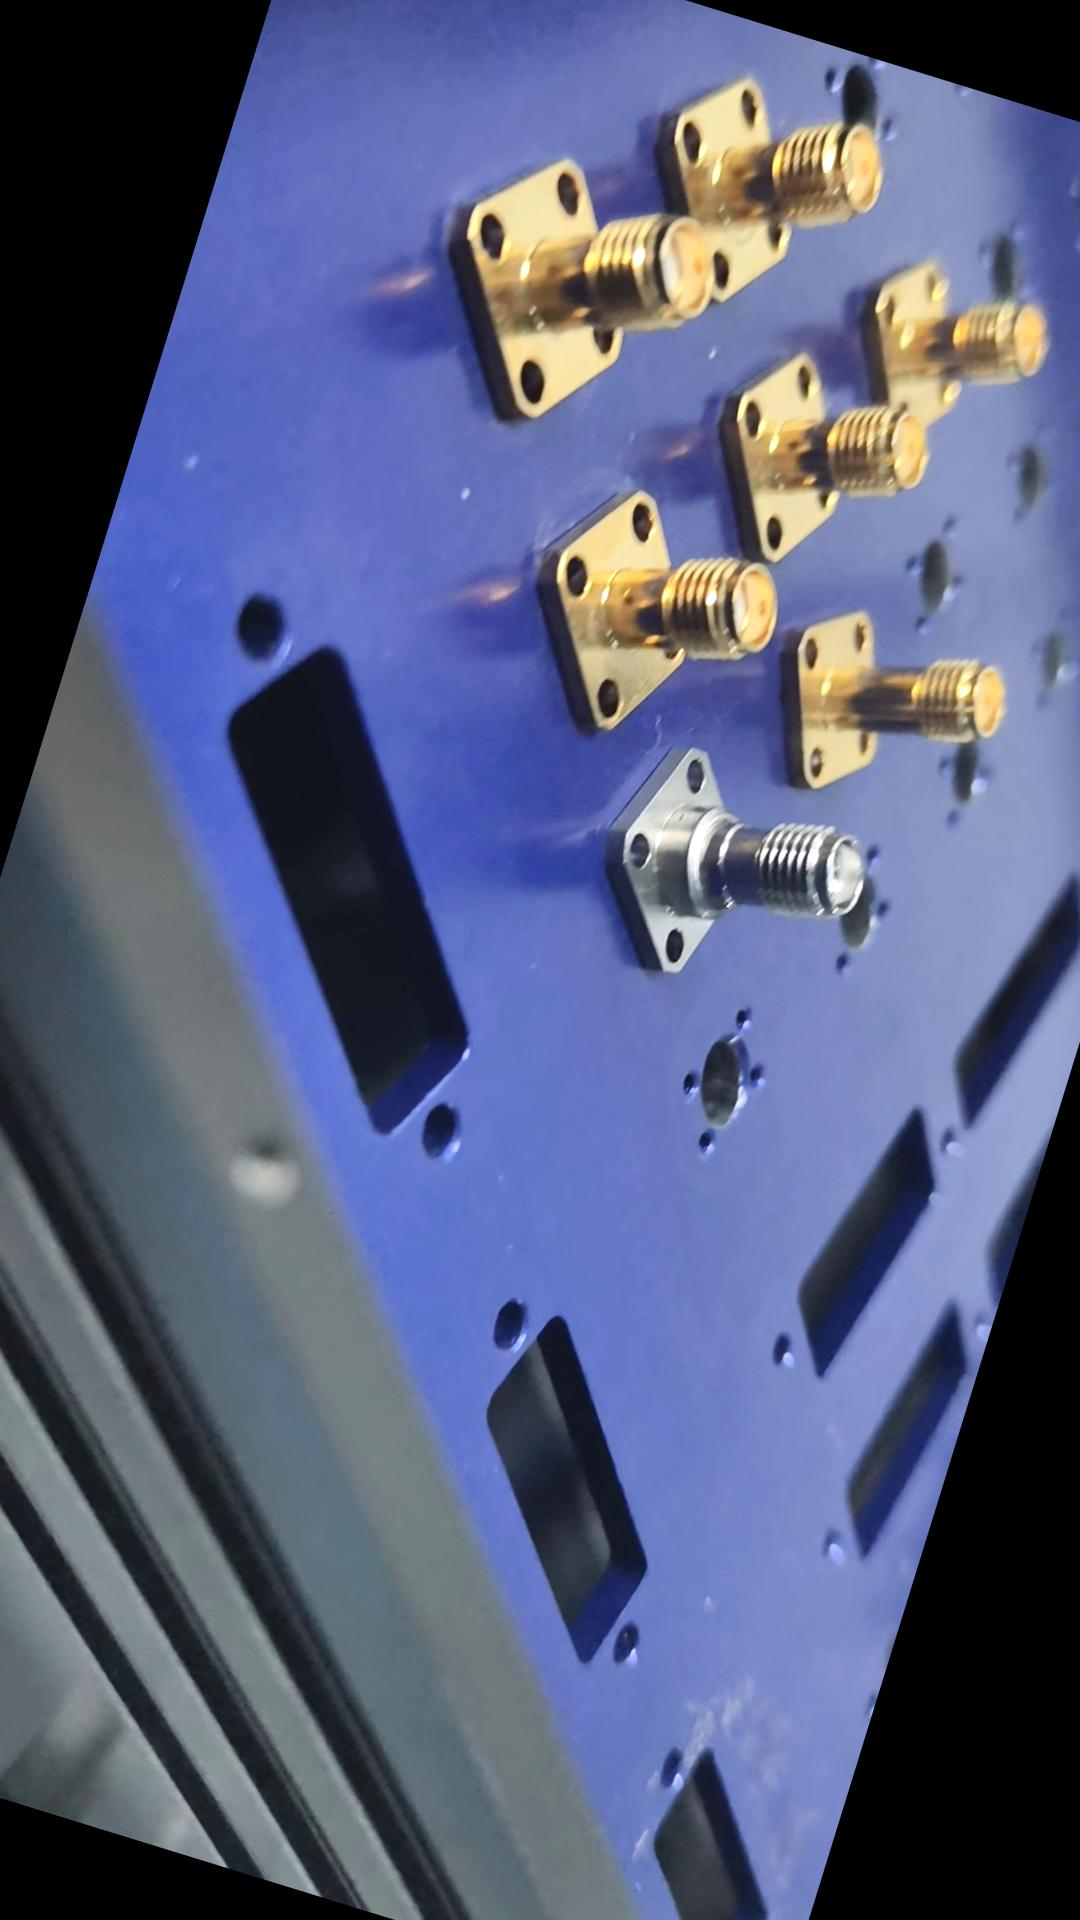SMA: (418, 135, 741, 464), (576, 713, 894, 1025), (504, 448, 808, 773), (688, 316, 961, 609), (750, 582, 1030, 845)
